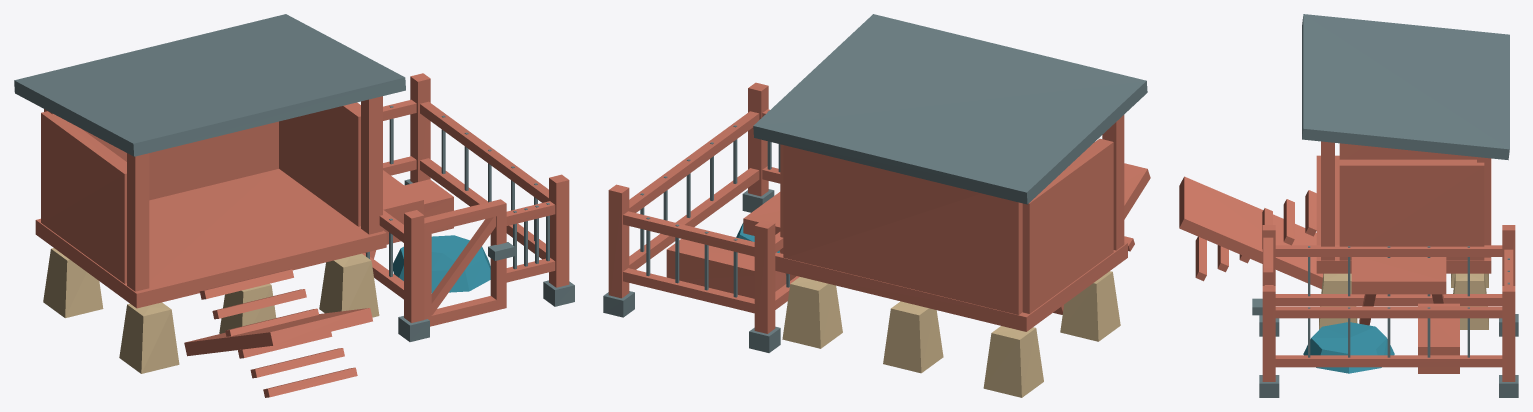
Rendered from goat-shed.source.glb.
3 renders of one model, left to right at view 1: azimuth 30°, elevation 25°; view 2: azimuth 150°, elevation 25°; view 3: azimuth 270°, elevation 25°, orthographic. The views are drawn at different scales.
Parts seen in each view (by area): view 1: goat-shed-single-slope-roof-mesh, goat-shed-raised-timber-floor-mesh, goat-shed-left-windbreak-wall-mesh, goat-shed-right-windbreak-wall-mesh, goat-shed-rear-windbreak-wall-mesh, goat-shed-ramp-deck-mesh, goat-shed-front-left-stone-pier-mesh, goat-shed-left-front-post-mesh, goat-shed-right-front-post-mesh, goat-shed-front-right-stone-pier-mesh, goat-shed-rear-left-stone-pier-mesh, goat-shed-water-basin-mesh (+25 smaller); view 2: goat-shed-single-slope-roof-mesh, goat-shed-rear-windbreak-wall-mesh, goat-shed-left-windbreak-wall-mesh, goat-shed-raised-timber-floor-mesh, goat-shed-feed-trough-mesh, goat-shed-rear-left-stone-pier-mesh, goat-shed-rear-center-stone-pier-mesh, goat-shed-rear-right-stone-pier-mesh, goat-shed-front-left-stone-pier-mesh, goat-shed-rear-left-pen-post-mesh, goat-shed-right-side-rail-0.9-mesh, goat-shed-rear-right-pen-post-mesh (+9 smaller); view 3: goat-shed-single-slope-roof-mesh, goat-shed-right-windbreak-wall-mesh, goat-shed-ramp-deck-mesh, goat-shed-platform-deck-mesh, goat-shed-right-side-rail-0.9-mesh, goat-shed-right-side-rail-0.36-mesh, goat-shed-water-basin-mesh, goat-shed-left-side-rail-0.9-mesh, goat-shed-left-side-rail-0.36-mesh, goat-shed-raised-timber-floor-mesh, goat-shed-feed-trough-mesh, goat-shed-right-front-post-mesh (+15 smaller).
Part boxes in pixels (x1,y1,x2,y2): goat-shed-single-slope-roof-mesh: [14, 14, 405, 156]; goat-shed-raised-timber-floor-mesh: [35, 169, 386, 308]; goat-shed-left-windbreak-wall-mesh: [41, 111, 126, 283]; goat-shed-right-windbreak-wall-mesh: [279, 102, 360, 226]; goat-shed-rear-windbreak-wall-mesh: [44, 109, 278, 200]; goat-shed-ramp-deck-mesh: [184, 308, 372, 356]; goat-shed-front-left-stone-pier-mesh: [119, 302, 179, 373]; goat-shed-left-front-post-mesh: [127, 153, 149, 291]; goat-shed-right-front-post-mesh: [361, 96, 382, 234]; goat-shed-front-right-stone-pier-mesh: [319, 253, 379, 317]; goat-shed-rear-left-stone-pier-mesh: [43, 248, 103, 318]; goat-shed-water-basin-mesh: [393, 235, 490, 293]; goat-shed-single-slope-roof-mesh: [753, 14, 1147, 204]; goat-shed-rear-windbreak-wall-mesh: [783, 145, 1022, 314]; goat-shed-left-windbreak-wall-mesh: [1022, 138, 1113, 313]; goat-shed-raised-timber-floor-mesh: [775, 242, 1127, 331]; goat-shed-feed-trough-mesh: [666, 239, 786, 298]; goat-shed-rear-left-stone-pier-mesh: [983, 326, 1043, 397]; goat-shed-rear-center-stone-pier-mesh: [883, 301, 943, 373]; goat-shed-rear-right-stone-pier-mesh: [782, 277, 842, 348]; goat-shed-front-left-stone-pier-mesh: [1060, 271, 1120, 341]; goat-shed-rear-left-pen-post-mesh: [754, 220, 775, 333]; goat-shed-right-side-rail-0.9-mesh: [629, 111, 759, 212]; goat-shed-rear-right-pen-post-mesh: [608, 184, 629, 298]; goat-shed-single-slope-roof-mesh: [1302, 14, 1509, 160]; goat-shed-right-windbreak-wall-mesh: [1339, 159, 1484, 260]; goat-shed-ramp-deck-mesh: [1179, 176, 1323, 288]; goat-shed-platform-deck-mesh: [1351, 257, 1446, 294]; goat-shed-right-side-rail-0.9-mesh: [1275, 306, 1502, 318]; goat-shed-right-side-rail-0.36-mesh: [1275, 355, 1502, 367]; goat-shed-water-basin-mesh: [1303, 322, 1394, 373]; goat-shed-left-side-rail-0.9-mesh: [1275, 245, 1502, 256]; goat-shed-left-side-rail-0.36-mesh: [1275, 294, 1502, 305]; goat-shed-raised-timber-floor-mesh: [1316, 155, 1491, 273]; goat-shed-feed-trough-mesh: [1418, 303, 1459, 373]; goat-shed-right-front-post-mesh: [1321, 141, 1334, 260].
Size of the model in its own units: 4.16 by 2.3 by 3.4.
